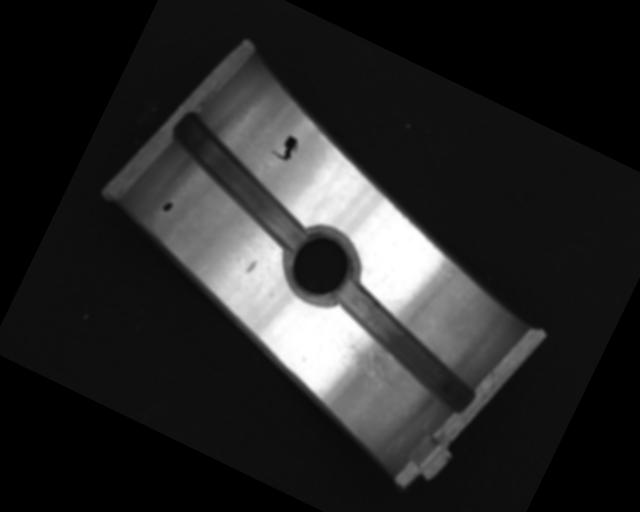blot: (269, 129, 302, 164), (160, 199, 174, 214)
bruise: (245, 257, 258, 275)
gap: (147, 108, 333, 254), (314, 277, 496, 414)
hole: (273, 218, 369, 314)
scratch: (328, 332, 438, 421)
